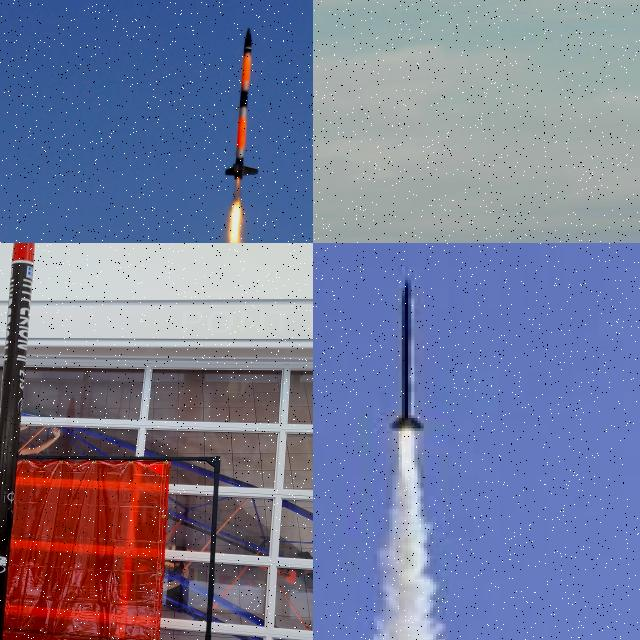Rocket: (0, 243, 36, 640), (388, 273, 426, 437), (224, 26, 260, 180)
